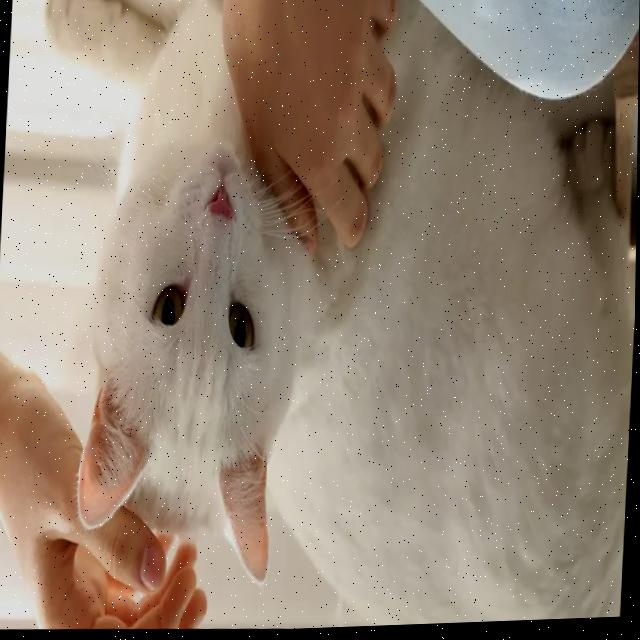Khao Manee: (15, 0, 640, 639)
